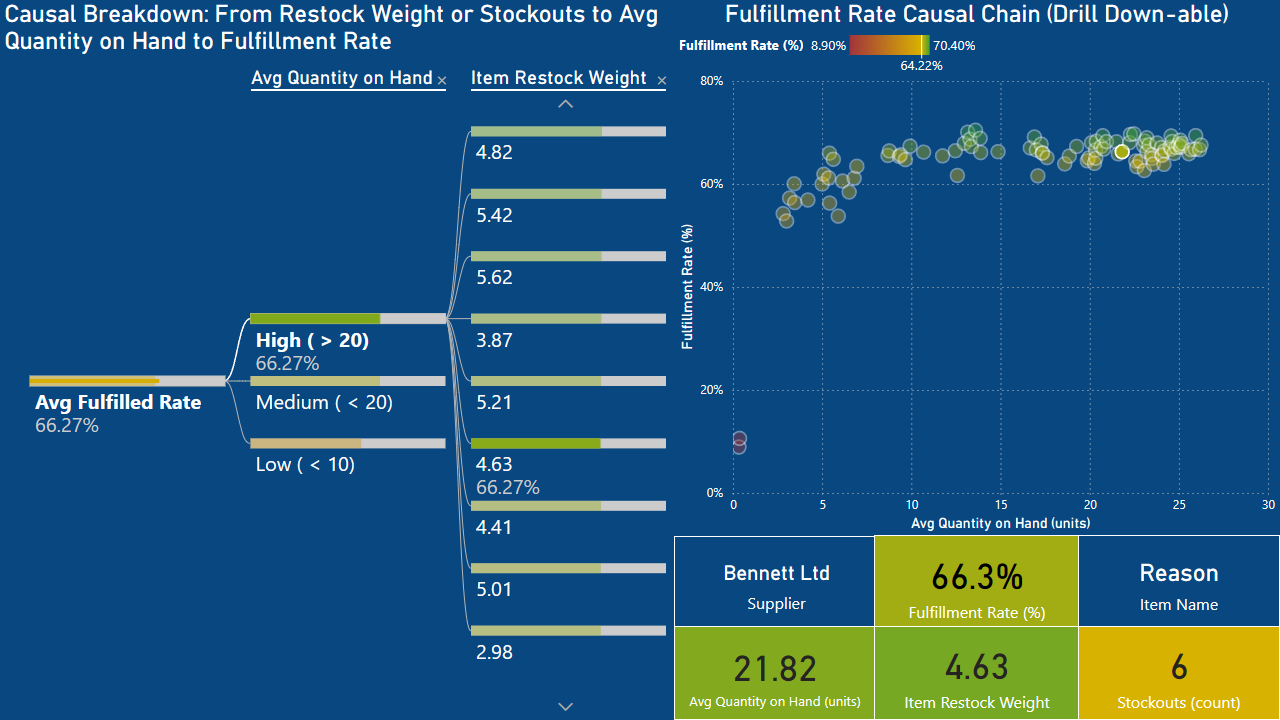

Layout of this report page (visuals, bound fields, positions):
{"tool":"powerbi","page":{"name":"Decomposition Tree","canvas":[1280,720],"ordinal":1},"visuals":[{"type":"decompositionTreeVisual","title":"Causal Breakdown: From Restock Weight or Stockouts to Avg Quantity on Hand to Fulfillment Rate\n","fields":{"ExplainBy":["supplier_item_df.Inventory Level Bin","supplier_item_df.item_restock_weight","supplier_item_df.stockouts"],"Analyze":["supplier_item_df.avg_fulfilled_rate"]},"box":[0,0,674,721],"z":0},{"type":"scatterChart","title":"Fulfillment Rate Causal Chain (Drill Down-able)","fields":{"X":["supplier_item_df.avg_quantity_on_hand","supplier_item_df.item_restock_weight","supplier_item_df.stockouts"],"Y":["supplier_item_df.avg_fulfilled_rate"]},"box":[674.1,0,605.9,535.7],"z":1000},{"type":"card","fields":{"Values":["order_item_final.Selected Supplier"]},"box":[673.9,535.6,204.9,94.1],"z":1001},{"type":"card","fields":{"Values":["supplier_item_df.avg_quantity_on_hand"]},"box":[673.9,625.8,202,94.1],"z":1002},{"type":"card","fields":{"Values":["supplier_item_df.avg_fulfilled_rate"]},"box":[873.8,535.4,206.2,95.4],"z":1003},{"type":"card","fields":{"Values":["supplier_item_df.item_restock_weight"]},"box":[874.2,625.8,205.9,94.1],"z":1004},{"type":"card","fields":{"Values":["order_item_final.Selected Item"]},"box":[1077.7,535.4,202.3,94.6],"z":1005},{"type":"card","fields":{"Values":["supplier_item_df.stockouts"]},"box":[1077.8,625.8,202.3,94.1],"z":1006}]}

Visuals, with their boxes in screenshot pixels (x1, y1, x2, y2), scaled from the page's 1280x720 canvas onto the 1280x720 screenshot:
"Causal Breakdown: From Restock Weight or Stockouts to Avg Quantity on Hand to Fulfillment Rate
" decompositionTreeVisual: region(0, 0, 674, 719)
"Fulfillment Rate Causal Chain (Drill Down-able)" scatterChart: region(674, 0, 1279, 536)
card - order_item_final.Selected Supplier: region(674, 536, 879, 630)
card - supplier_item_df.avg_quantity_on_hand: region(674, 626, 876, 719)
card - supplier_item_df.avg_fulfilled_rate: region(874, 535, 1080, 631)
card - supplier_item_df.item_restock_weight: region(874, 626, 1080, 719)
card - order_item_final.Selected Item: region(1078, 535, 1279, 630)
card - supplier_item_df.stockouts: region(1078, 626, 1279, 719)
